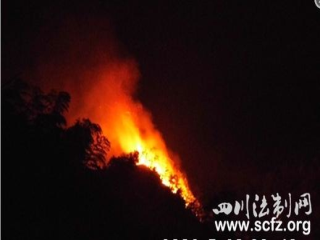fire: (78, 68, 204, 214)
